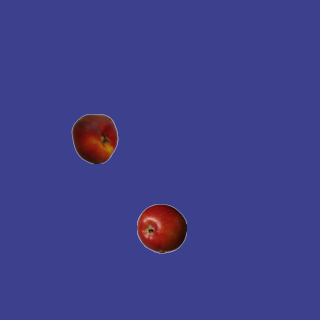Apple Braeburn: (136, 203, 186, 253)
Nectarine Flat: (69, 113, 119, 163)
